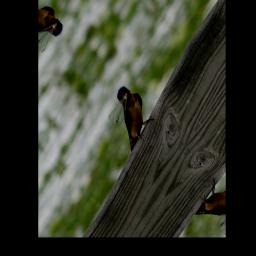Swallow: (100, 80, 161, 157)
